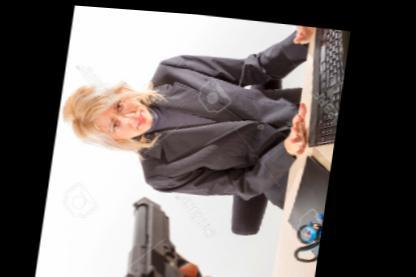pistol: (125, 187, 301, 275)
